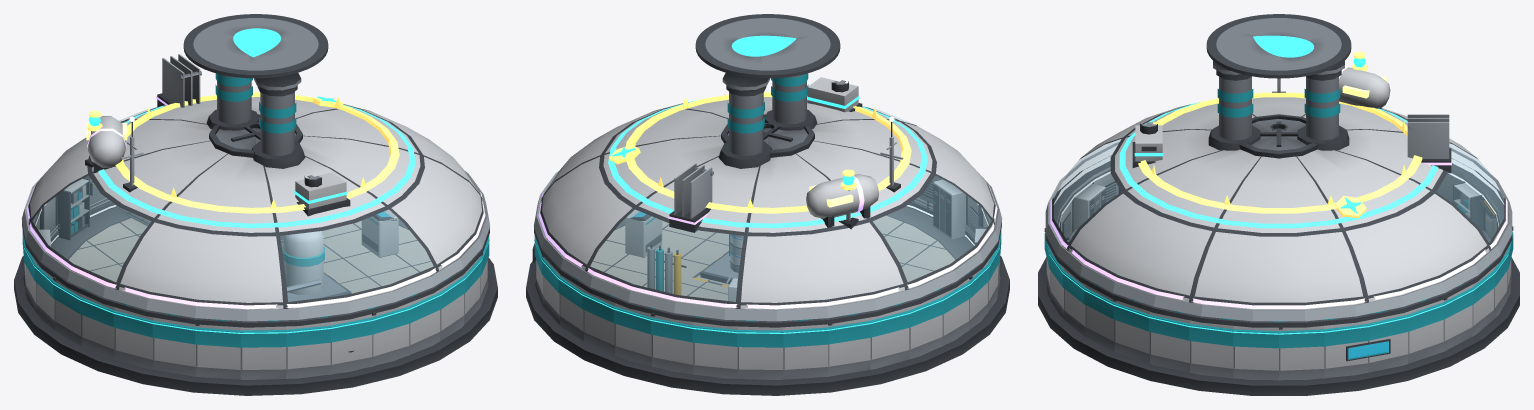
Rendered from oxygen_plant.glb.
3 renders of one model, left to right at view 1: azimuth 30°, elevation 25°; view 2: azimuth 150°, elevation 25°; view 3: azimuth 270°, elevation 25°, orthographic.
Parts seen in each view (by area): view 1: Roof, Base, Interior, L3, L5, L4, Wall_21, Wall_20, Wall_22, Wall_19, Wall_23, Wall_18 (+20 smaller); view 2: Roof, Base, L4, Interior, L3, L5, Wall_10, Wall_11, Wall_09, Wall_12, Wall_08, Wall_13 (+20 smaller); view 3: Roof, Base, L5, L4, L3, Wall_00, Wall_31, Wall_30, Wall_29, Wall_01, Wall_28, Wall_03 (+23 smaller).
Boxes of the visible parts, x1=… form: Roof: x1=22, y1=14, x2=489, y2=327; Base: x1=14, y1=207, x2=497, y2=395; Interior: x1=114, y1=205, x2=398, y2=301; L3: x1=98, y1=104, x2=415, y2=228; L5: x1=85, y1=92, x2=399, y2=213; L4: x1=86, y1=54, x2=201, y2=173; Wall_21: x1=240, y1=326, x2=286, y2=379; Wall_20: x1=195, y1=323, x2=240, y2=379; Wall_22: x1=286, y1=322, x2=331, y2=378; Wall_19: x1=152, y1=317, x2=195, y2=376; Wall_23: x1=330, y1=314, x2=372, y2=374; Wall_18: x1=113, y1=307, x2=153, y2=369; Roof: x1=534, y1=14, x2=1001, y2=327; Base: x1=526, y1=207, x2=1009, y2=395; L4: x1=668, y1=163, x2=879, y2=232; Interior: x1=625, y1=209, x2=743, y2=301; L3: x1=608, y1=77, x2=927, y2=228; L5: x1=609, y1=92, x2=911, y2=229; Wall_10: x1=737, y1=326, x2=783, y2=379; Wall_11: x1=783, y1=324, x2=828, y2=379; Wall_09: x1=692, y1=322, x2=737, y2=378; Wall_12: x1=828, y1=317, x2=871, y2=376; Wall_08: x1=651, y1=313, x2=693, y2=374; Wall_13: x1=870, y1=307, x2=910, y2=369; Roof: x1=1045, y1=14, x2=1512, y2=327; Base: x1=1038, y1=257, x2=1519, y2=395; L5: x1=1138, y1=51, x2=1422, y2=218; L4: x1=1339, y1=65, x2=1451, y2=173; L3: x1=1119, y1=102, x2=1438, y2=228; Wall_00: x1=1279, y1=326, x2=1324, y2=380; Wall_31: x1=1233, y1=326, x2=1278, y2=380; Wall_30: x1=1189, y1=320, x2=1233, y2=378; Wall_29: x1=1148, y1=312, x2=1189, y2=372; Wall_01: x1=1324, y1=320, x2=1368, y2=378; Wall_28: x1=1113, y1=299, x2=1149, y2=363; Wall_03: x1=1408, y1=300, x2=1444, y2=363.
Bounding box in the file's own units: 10.53 × 6.03 × 10.53.
